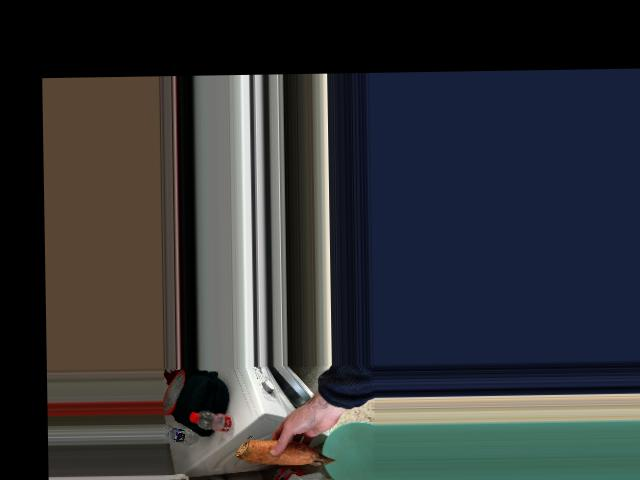sweet_potato: (245, 432, 332, 465)
